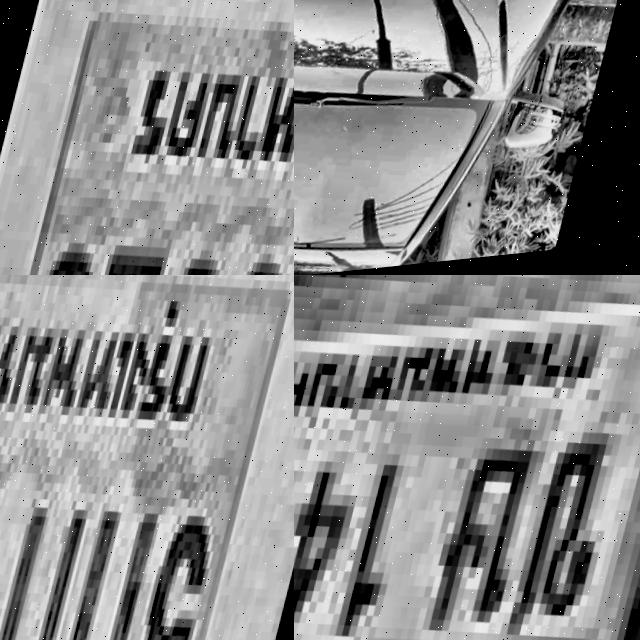license-plate: (294, 275, 640, 640), (0, 275, 294, 640), (0, 0, 294, 275)
